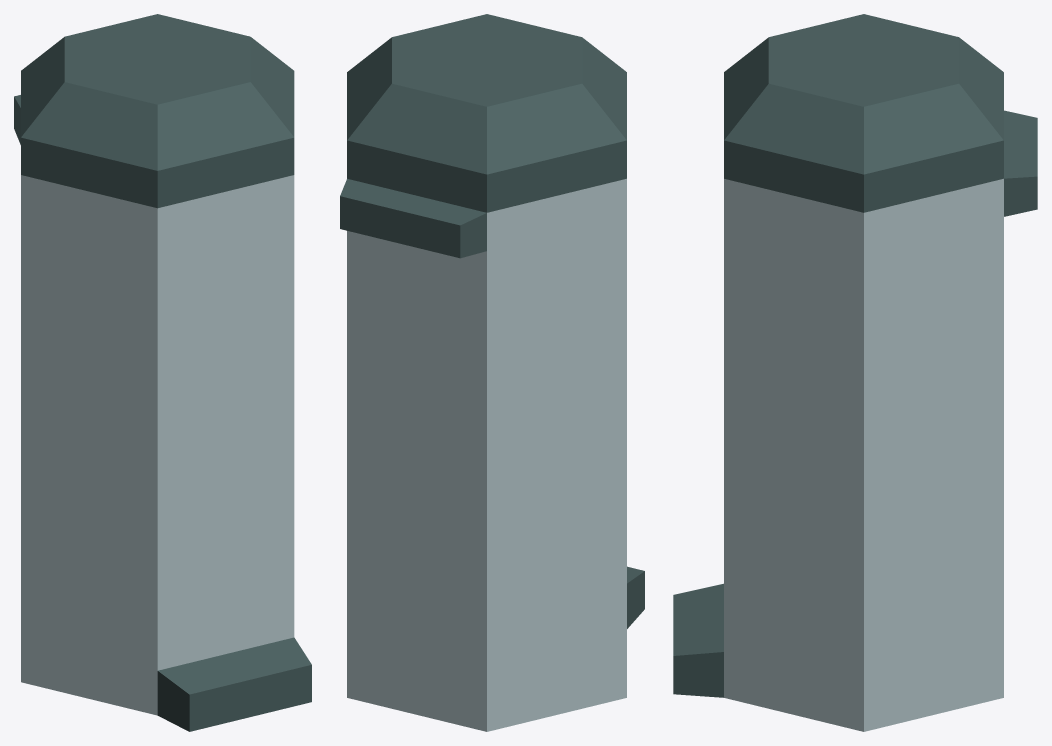
The model's file is trashcan.glb.
3 views of the same model, side by side, from view 1: azimuth 30°, elevation 25°; view 2: azimuth 150°, elevation 25°; view 3: azimuth 270°, elevation 25° (orthographic). The views are drawn at different scales.
Parts seen in each view (by area): view 1: trashcan; view 2: trashcan; view 3: trashcan.
Boxes of the visible parts, bbox=[...] form: trashcan: bbox=[14, 14, 311, 731]; trashcan: bbox=[340, 14, 644, 731]; trashcan: bbox=[673, 14, 1037, 731].
Size of the model in its own units: 0.2673 by 0.5507 by 0.3013.
